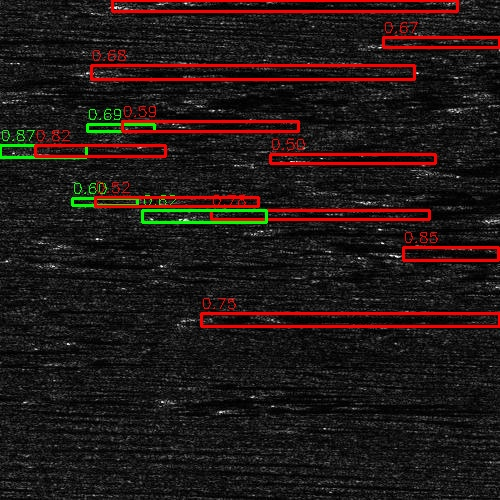rock: (343, 190, 436, 207), (29, 235, 122, 252), (353, 244, 458, 257), (185, 209, 248, 220), (348, 320, 421, 327), (75, 252, 96, 273), (22, 147, 75, 154), (266, 225, 307, 234), (391, 254, 432, 263), (60, 68, 133, 73), (174, 381, 237, 386), (255, 309, 286, 318), (168, 71, 221, 76), (255, 400, 308, 405), (227, 406, 280, 411), (82, 199, 123, 204), (43, 84, 54, 91)
shadow: (217, 209, 447, 220), (271, 309, 500, 318), (76, 235, 187, 252), (390, 190, 500, 207), (287, 225, 463, 234), (97, 68, 376, 73), (406, 244, 500, 257), (254, 406, 491, 411), (86, 252, 141, 273), (195, 71, 426, 76), (103, 199, 325, 204), (282, 400, 461, 405), (385, 320, 500, 327), (412, 254, 500, 263), (0, 345, 87, 354), (49, 84, 160, 91), (49, 147, 160, 154), (206, 381, 323, 386)
